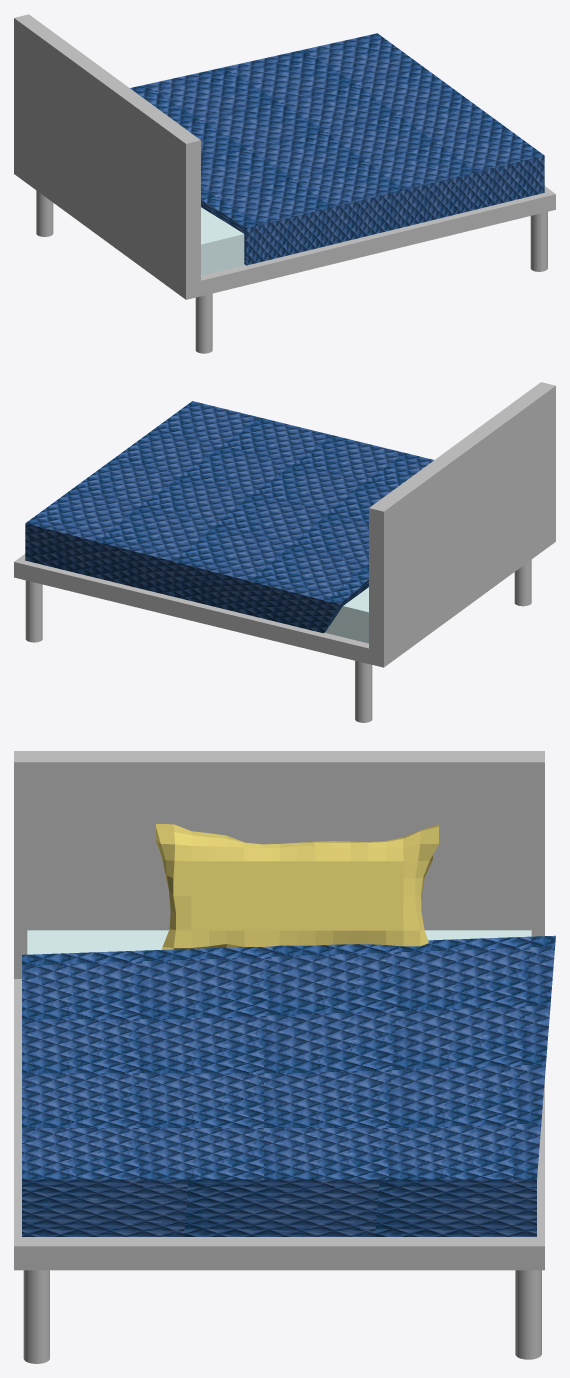
Rendered from Cama.fbx.
3 renders of one model, top to bottom at view 1: azimuth 30°, elevation 25°; view 2: azimuth 150°, elevation 25°; view 3: azimuth 270°, elevation 25°, orthographic. The views are drawn at different scales.
Parts seen in each view (by area): view 1: Base.003; view 2: Base.003; view 3: Base.003.
Part boxes in pixels (left/top/right/bottom): Base.003: left=14, top=14, right=555, bottom=353; Base.003: left=14, top=382, right=555, bottom=722; Base.003: left=14, top=751, right=555, bottom=1363.
Size of the model in its own units: 1241 by 698 by 1021.
